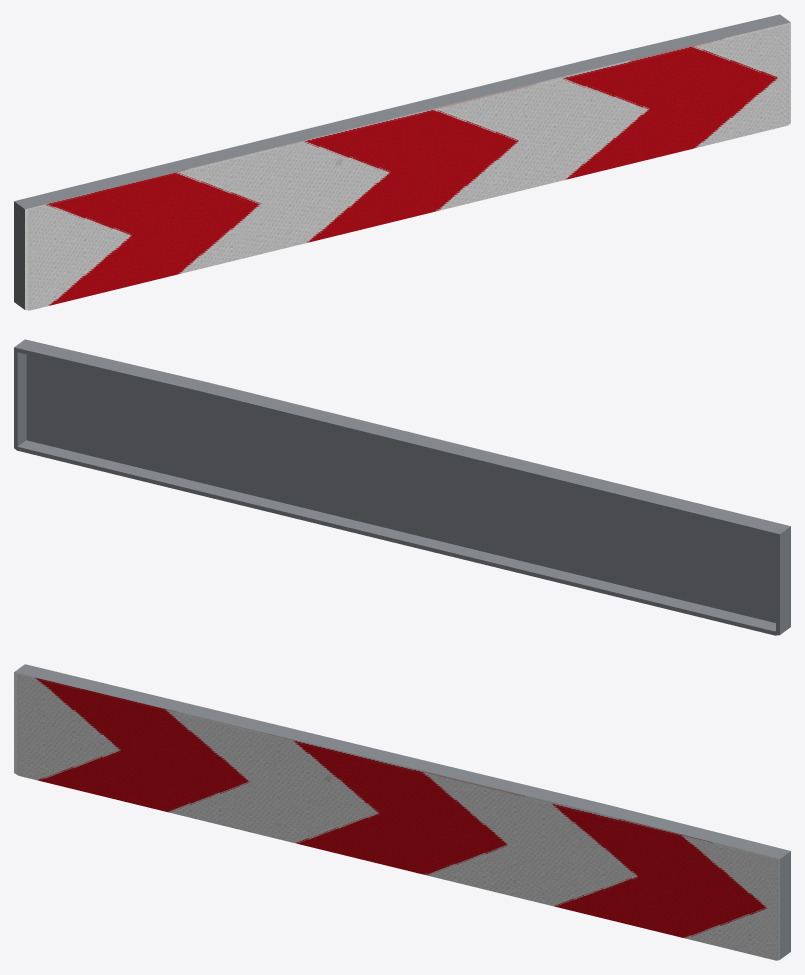
3 views of the same model, one above another, from view 1: azimuth 30°, elevation 25°; view 2: azimuth 150°, elevation 25°; view 3: azimuth 330°, elevation 25° (orthographic).
Visible parts, largest first — view 1: cat_78f25e272497df9a; view 2: cat_78f25e272497df9a; view 3: cat_78f25e272497df9a.
Part boxes in pixels (x1,y1,x2,y2): cat_78f25e272497df9a: (14, 14, 790, 310); cat_78f25e272497df9a: (14, 339, 790, 635); cat_78f25e272497df9a: (14, 664, 790, 960).
Bounding box in the file's own units: 0.6 × 0.015 × 0.0779.
2 materials, 1 textured.
